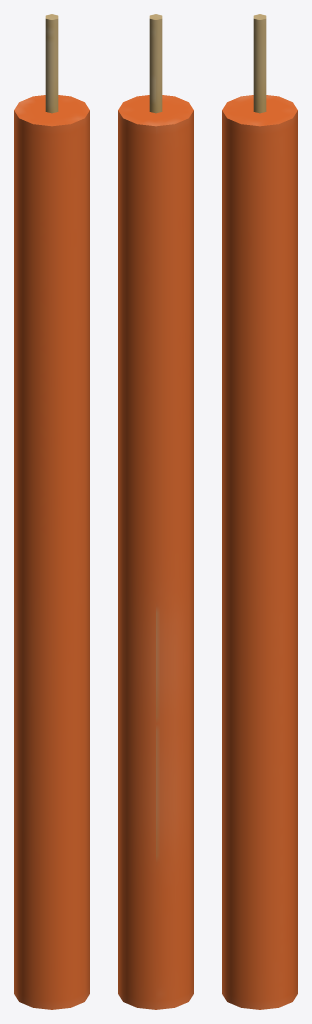
The model's file is candle.obj.
The picture shows the model from 3 angles, left to right: view 1: azimuth 30°, elevation 25°; view 2: azimuth 150°, elevation 25°; view 3: azimuth 330°, elevation 25°; orthographic projection.
Visible parts, largest first — view 1: candle001; view 2: candle001; view 3: candle001.
Part boxes in pixels (x1,y1,x2,y2): candle001: (14, 14, 89, 1009); candle001: (118, 14, 193, 1009); candle001: (222, 14, 297, 1009).
Bounding box in the file's own units: 0.8812 × 12.52 × 0.8812.
Materials: 1 (1 with a texture image).
